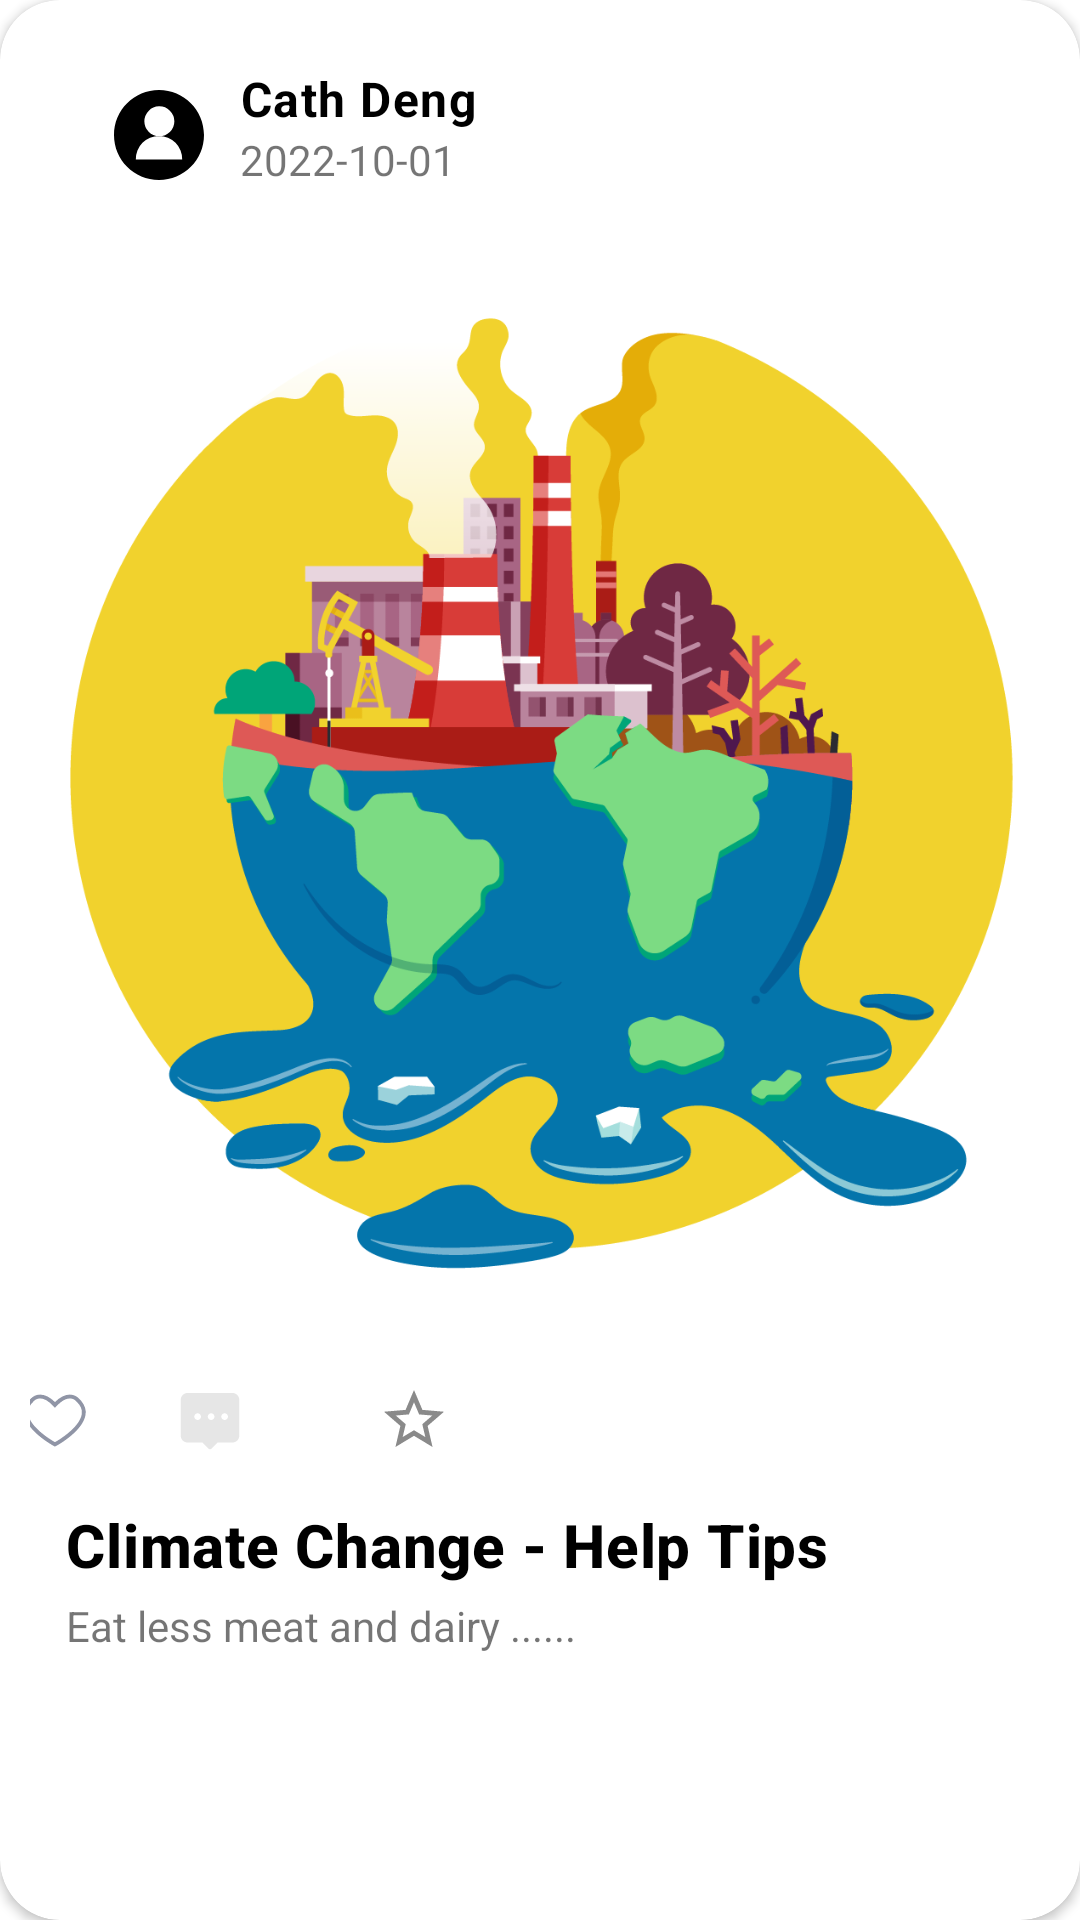

Icon click points for this 1080px x 1920px phone screenshot, format (x,y):
comment: (210,1421)
star border: (414,1419)
user: (159,135)
